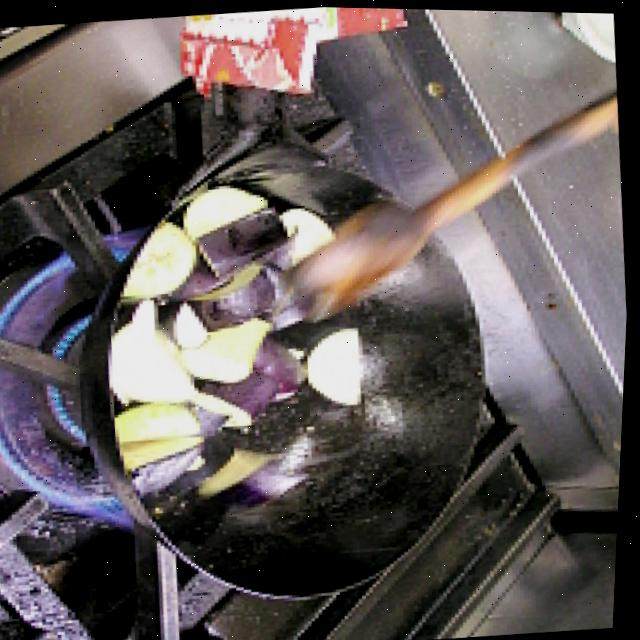鸡蛋料理: (78, 150, 422, 561)
